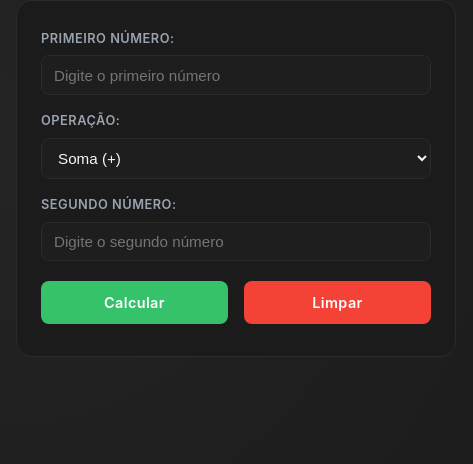
CalculatorComponent - Testes de Fluxo de Controle › Configuração Inicial (Caminhos 1-2) › deve limpar erro anterior ao iniciar cálculo
Simular erro anterior
In the field with test id "num1-input": {"x": 236, "y": 75} [41,55,431,95], type "abc"
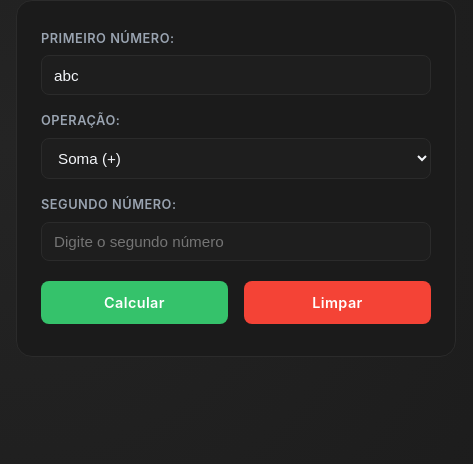
Click the button with test id "calculate-button": {"x": 134, "y": 303} [41,282,228,324]
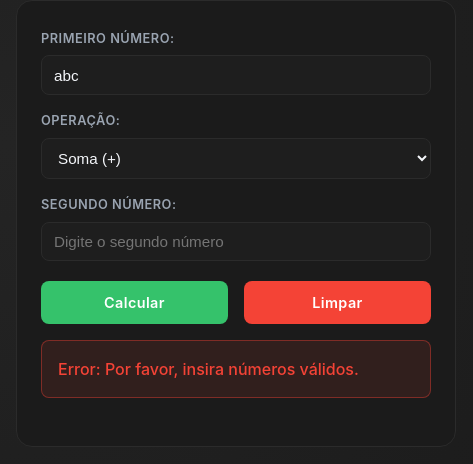
Result: the text "Error: Por favor, insira números válidos." is shown at [41,340,431,398]
Novo cálculo deve limpar erro
Replace the text in the field with test id "num1-input" with "5": {"x": 236, "y": 75} [41,55,431,95]
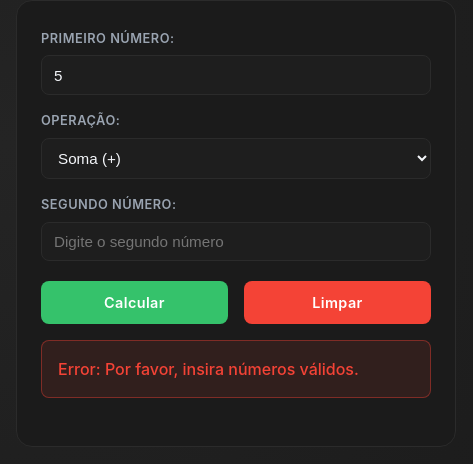
In the field with test id "num2-input": {"x": 236, "y": 242} [41,222,431,262], type "3"
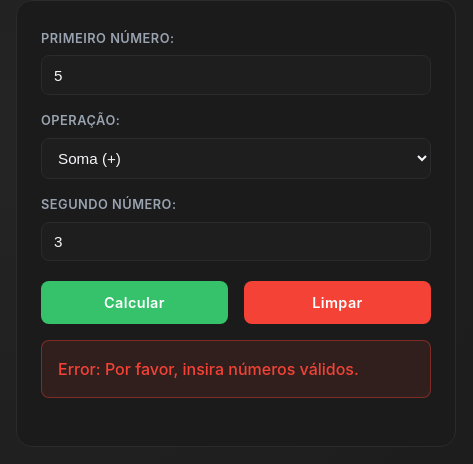
Click the button with test id "calculate-button": {"x": 134, "y": 303} [41,282,228,324]
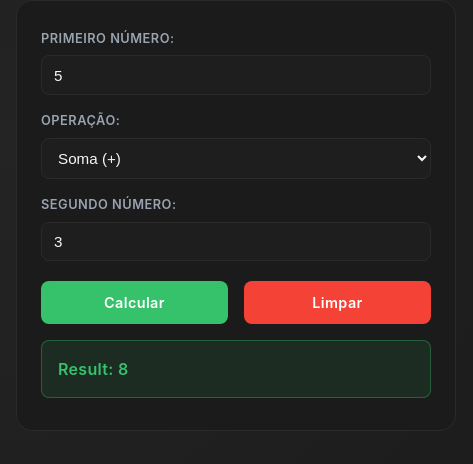
Result: the text with test id "error" is gone
